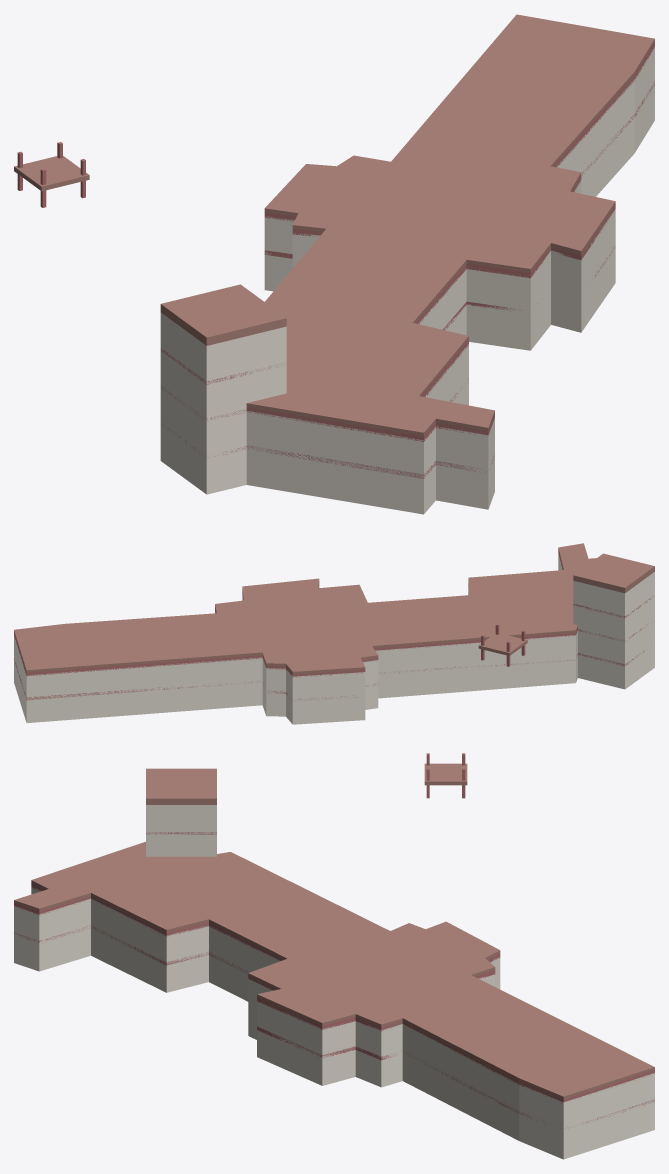
File: Aurobindo_Bhavan.glb
The picture shows the model from 3 angles, top to bottom: view 1: azimuth 30°, elevation 25°; view 2: azimuth 150°, elevation 25°; view 3: azimuth 270°, elevation 25°; orthographic projection. The views are drawn at different scales.
Visible parts, largest first — view 1: world; view 2: world; view 3: world.
Boxes of the visible parts, <box> form: world: <box>14,14,654,514</box>; world: <box>14,543,654,724</box>; world: <box>14,753,654,1159</box>.
Bounding box in the file's own units: 81.05 × 20 × 81.28.
